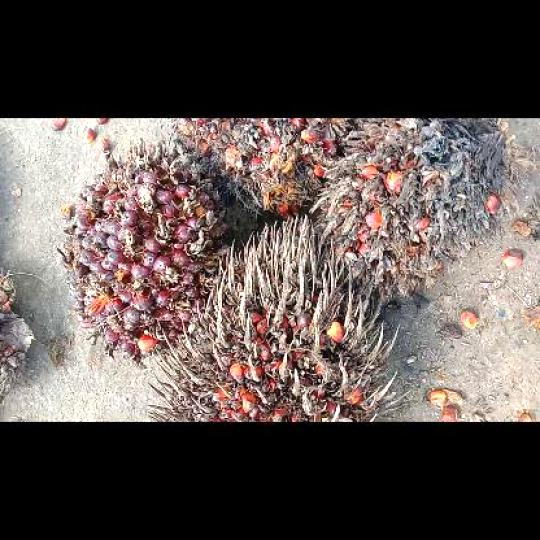masak: (59, 138, 253, 363), (173, 118, 357, 219)
terlalu masak: (149, 213, 401, 420), (310, 118, 516, 303)
